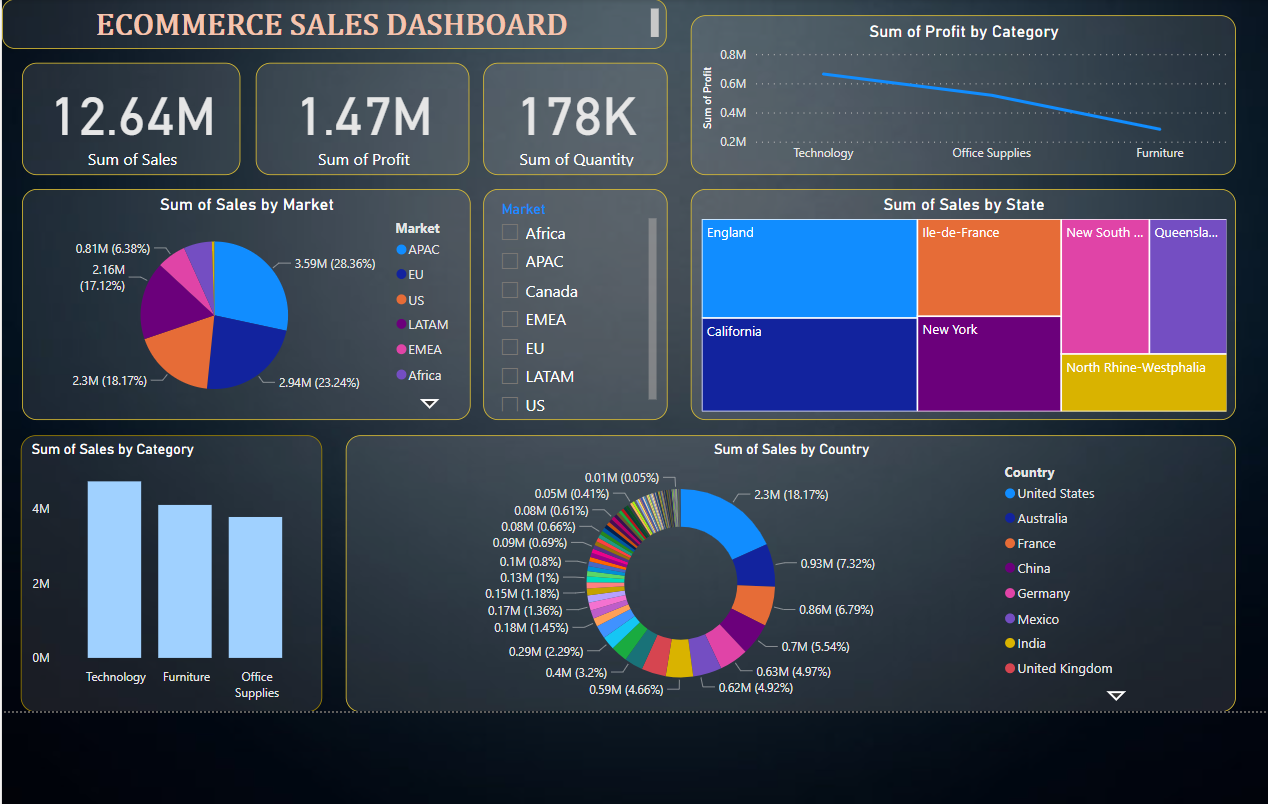

What the dashboard file says about the page in this screenshot:
{"tool":"powerbi","page":{"name":"Page 2","canvas":[1280,720],"ordinal":0},"visuals":[{"type":"columnChart","fields":{"Category":["Orders.Category"],"Y":["Sum(Orders.Sales)"]},"box":[19.2,440.5,304.6,279.9],"z":0},{"type":"textbox","box":[0,0,672.4,50.8],"z":1000},{"type":"donutChart","fields":{"Category":["Orders.Country"],"Y":["Sum(Orders.Sales)"]},"box":[347.2,440.5,900.2,279.9],"z":2000},{"type":"pieChart","fields":{"Category":["Orders.Market"],"Y":["Sum(Orders.Sales)"]},"box":[19.8,191.9,453.5,233.7],"z":3000},{"type":"card","fields":{"Values":["Sum(Orders.Sales)"]},"box":[19.8,64,220.9,114],"z":4000},{"type":"card","fields":{"Values":["Sum(Orders.Quantity)"]},"box":[486,64,186,114],"z":5000},{"type":"card","fields":{"Values":["Sum(Orders.Profit)"]},"box":[257,64,216.3,114],"z":6000},{"type":"slicer","fields":{"Values":["Orders.Market"]},"box":[486,191.9,186,233.7],"z":7000},{"type":"lineChart","fields":{"Y":["Sum(Orders.Profit)"],"Category":["Orders.Category"]},"box":[696.5,16.3,551.2,161.6],"z":8000},{"type":"treemap","fields":{"Group":["Orders.State"],"Values":["Sum(Orders.Sales)"]},"box":[696.5,191.9,551.2,233.7],"z":9000}]}

Visuals, with their boxes on the page's 1280x720 design canvas (x1, y1, x2, y2). These are canvas units, not pixel positions in the 1268x804 screenshot, which may show the page scaled, cropped or inside an application window:
columnChart - Orders.Category x Sum(Orders.Sales): rect(19, 440, 324, 720)
textbox: rect(0, 0, 672, 51)
donutChart - Orders.Country x Sum(Orders.Sales): rect(347, 440, 1247, 720)
pieChart - Orders.Market x Sum(Orders.Sales): rect(20, 192, 473, 426)
card - Sum(Orders.Sales): rect(20, 64, 241, 178)
card - Sum(Orders.Quantity): rect(486, 64, 672, 178)
card - Sum(Orders.Profit): rect(257, 64, 473, 178)
slicer - Orders.Market: rect(486, 192, 672, 426)
lineChart - Sum(Orders.Profit) x Orders.Category: rect(696, 16, 1248, 178)
treemap - Orders.State x Sum(Orders.Sales): rect(696, 192, 1248, 426)
